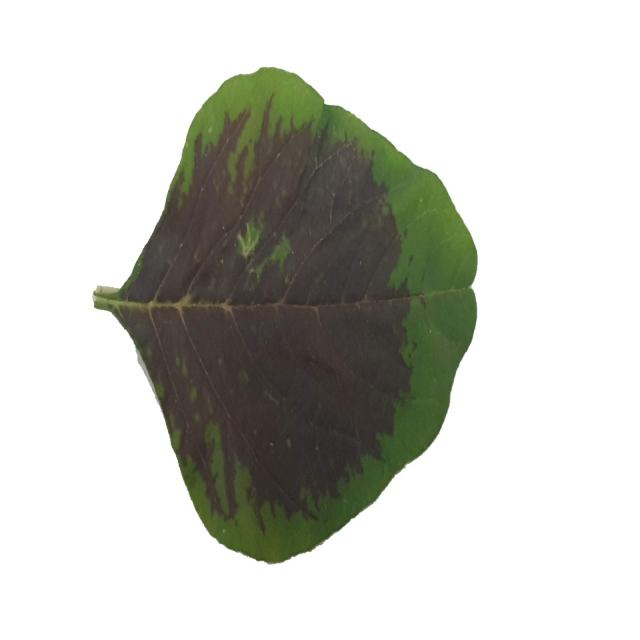Medicinal-Arive Dantu: (94, 62, 477, 561)
